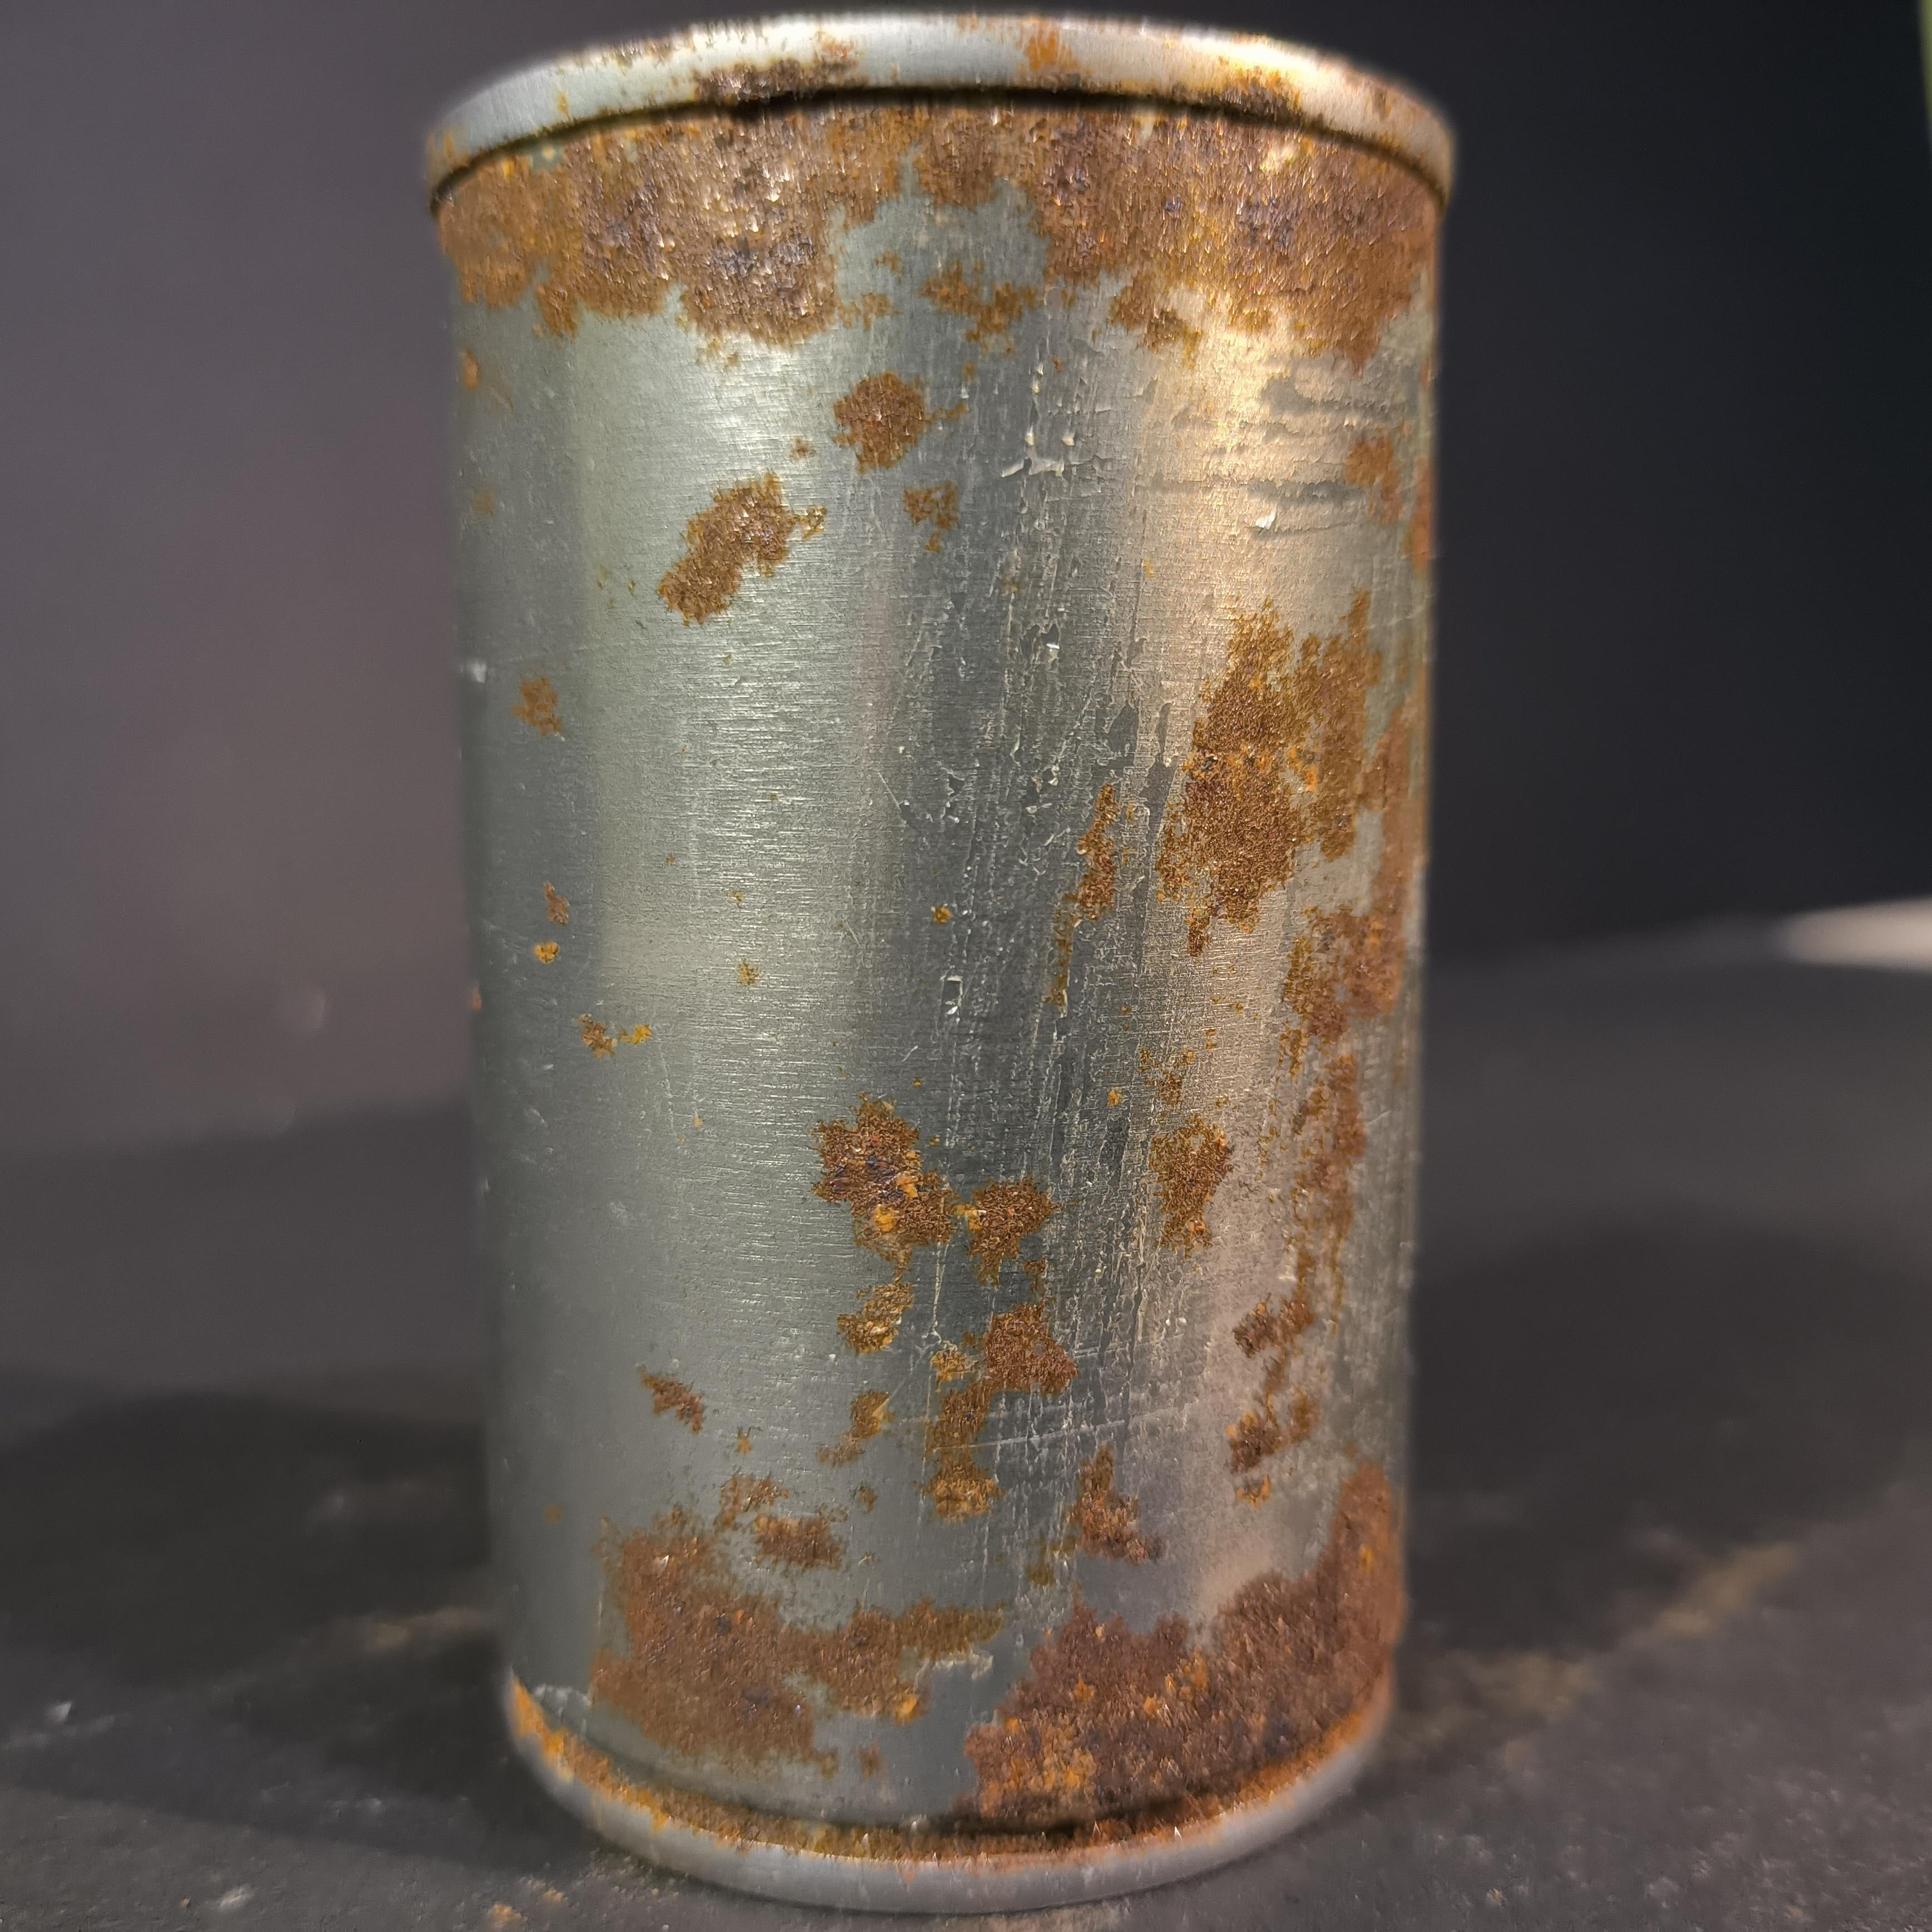Rusted: (403, 0, 1493, 1932)
